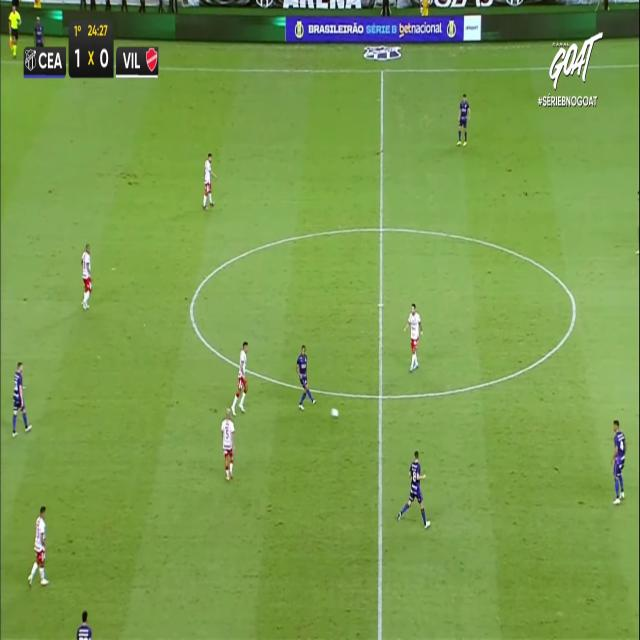ball: (331, 406, 338, 419)
player: (397, 449, 430, 528), (28, 506, 49, 586), (12, 360, 31, 436), (229, 339, 246, 415), (296, 344, 315, 410), (404, 302, 422, 371), (612, 419, 626, 502), (220, 408, 234, 480), (203, 152, 216, 209), (456, 93, 470, 145), (81, 243, 92, 309), (75, 610, 93, 639), (33, 15, 45, 54)
referee: (8, 1, 21, 59)
